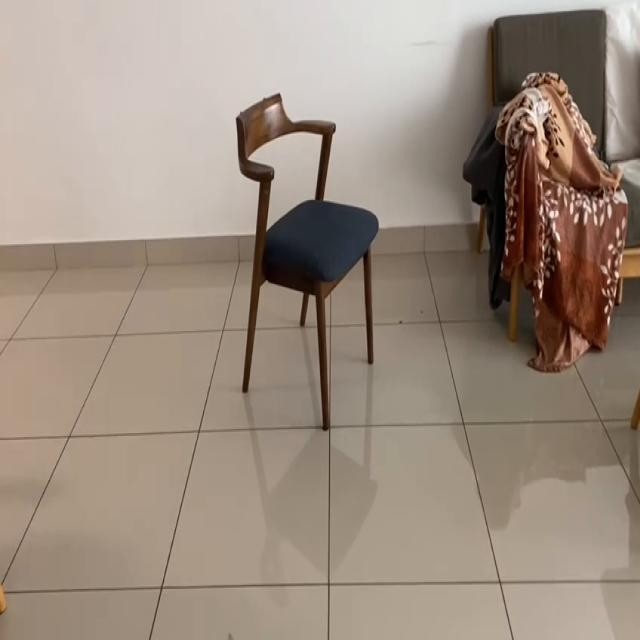Chair: (220, 86, 386, 422)
